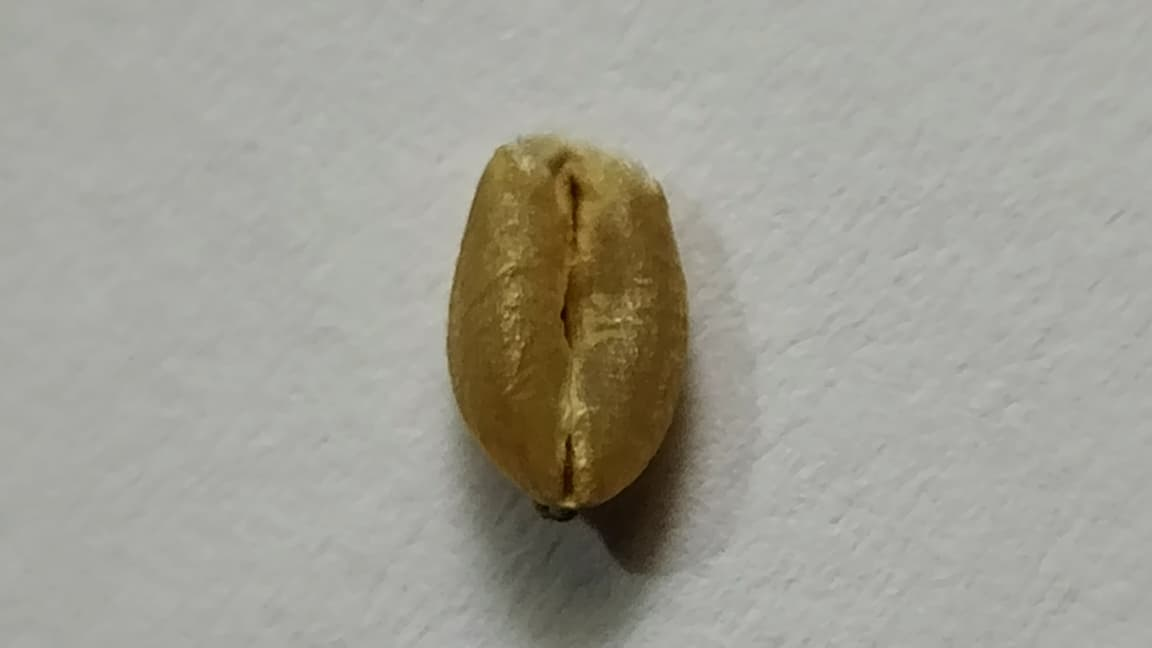healthy: (447, 136, 687, 518)
